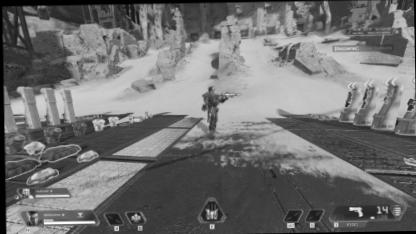Target: (204, 86, 219, 138)
